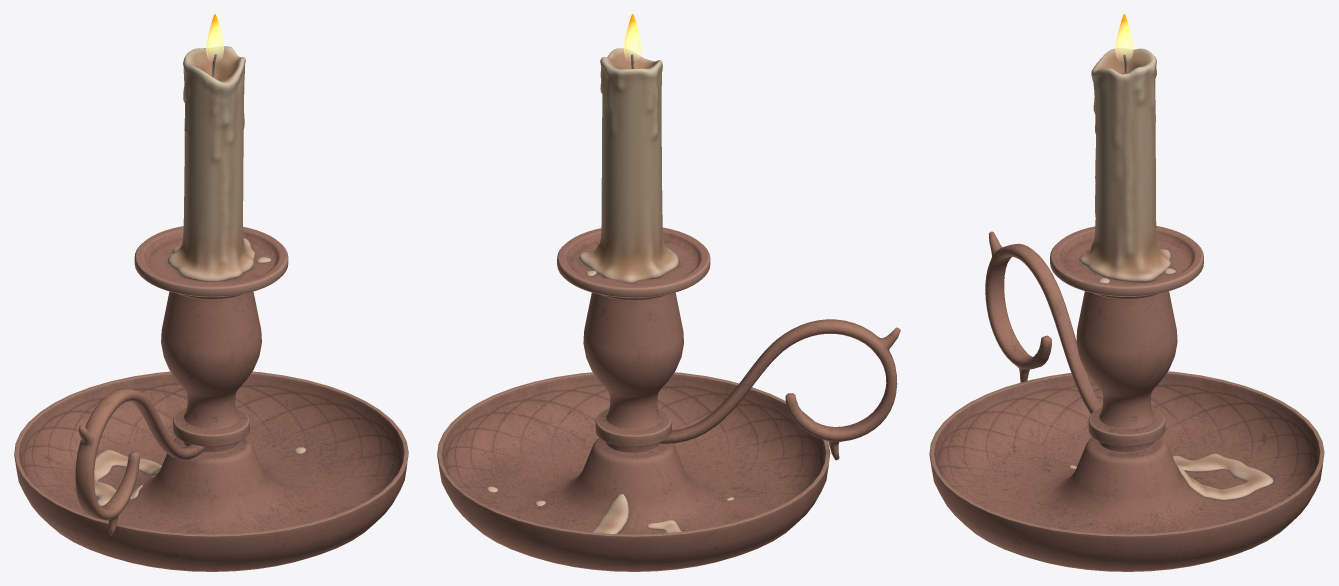
File: candle.glb
The picture shows the model from 3 angles, left to right: view 1: azimuth 30°, elevation 25°; view 2: azimuth 150°, elevation 25°; view 3: azimuth 270°, elevation 25°; orthographic projection.
Visible parts, largest first — view 1: Candlestick_0, Candle_1, Wax_3, Flame_4; view 2: Candlestick_0, Candle_1, Wax_3, Flame_4; view 3: Candlestick_0, Candle_1, Wax_3, Flame_4.
Boxes of the visible parts, box(x1,y1,x2,y2) form: Candlestick_0: box(14, 226, 408, 571); Candle_1: box(167, 46, 254, 281); Wax_3: box(94, 257, 306, 506); Flame_4: box(206, 14, 223, 60); Candlestick_0: box(437, 227, 900, 571); Candle_1: box(579, 48, 678, 283); Wax_3: box(486, 242, 734, 533); Flame_4: box(623, 14, 641, 59); Candlestick_0: box(929, 226, 1324, 571); Candle_1: box(1079, 48, 1170, 282); Wax_3: box(1069, 268, 1273, 500); Flame_4: box(1115, 14, 1133, 60).
Bounding box in the file's own units: 0.1512 × 0.1924 × 0.1393.
Materials: 2 (2 with a texture image).
